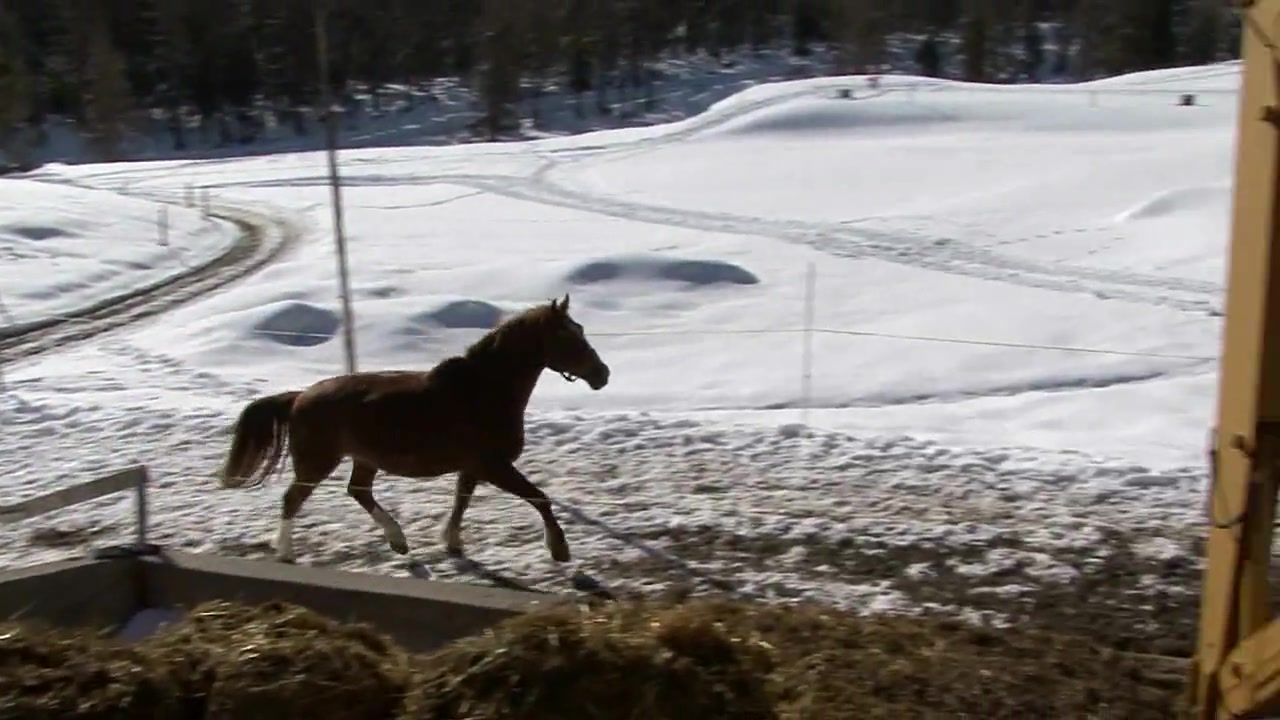horse: (220, 292, 613, 569)
